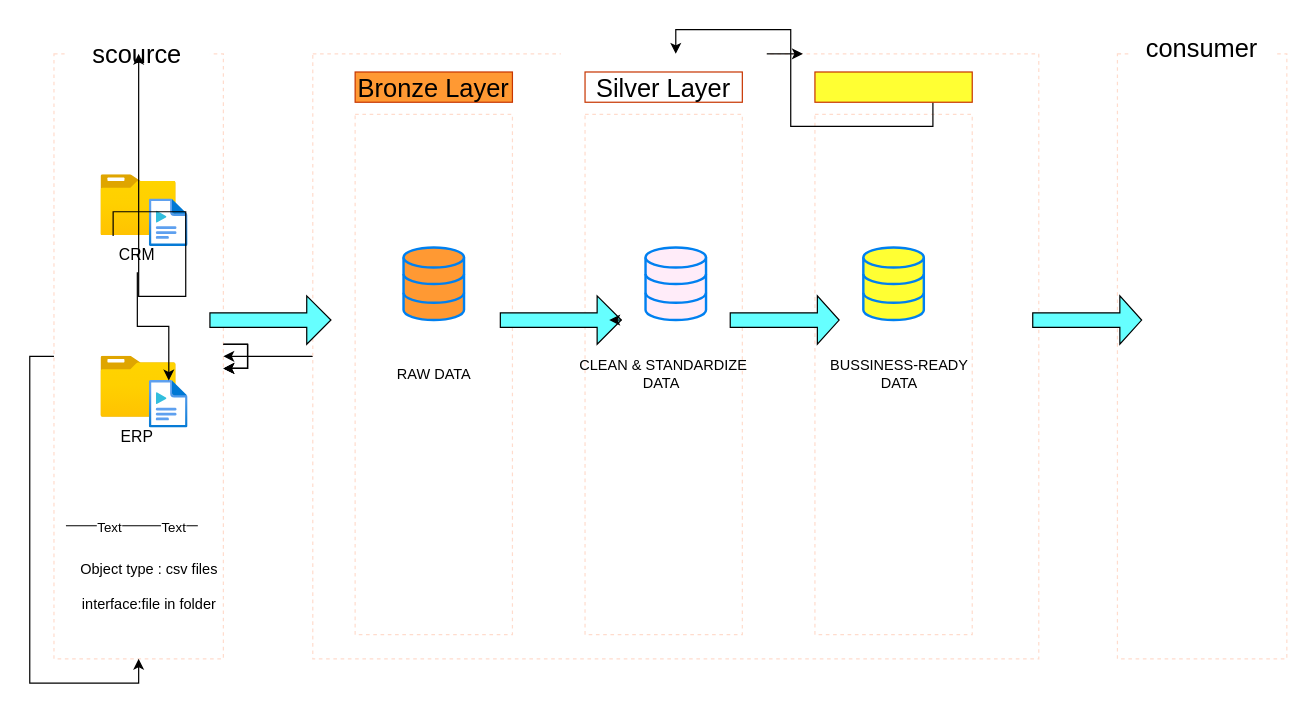
Some shapes in this 1308 by 714 pixel diagram are drawn without their labels. Here are the shapes that lost their labels. From the top down, the box of each, then its label:
(560, 35, 766, 71): data warehouse
(814, 71, 972, 102): Golden Layer
